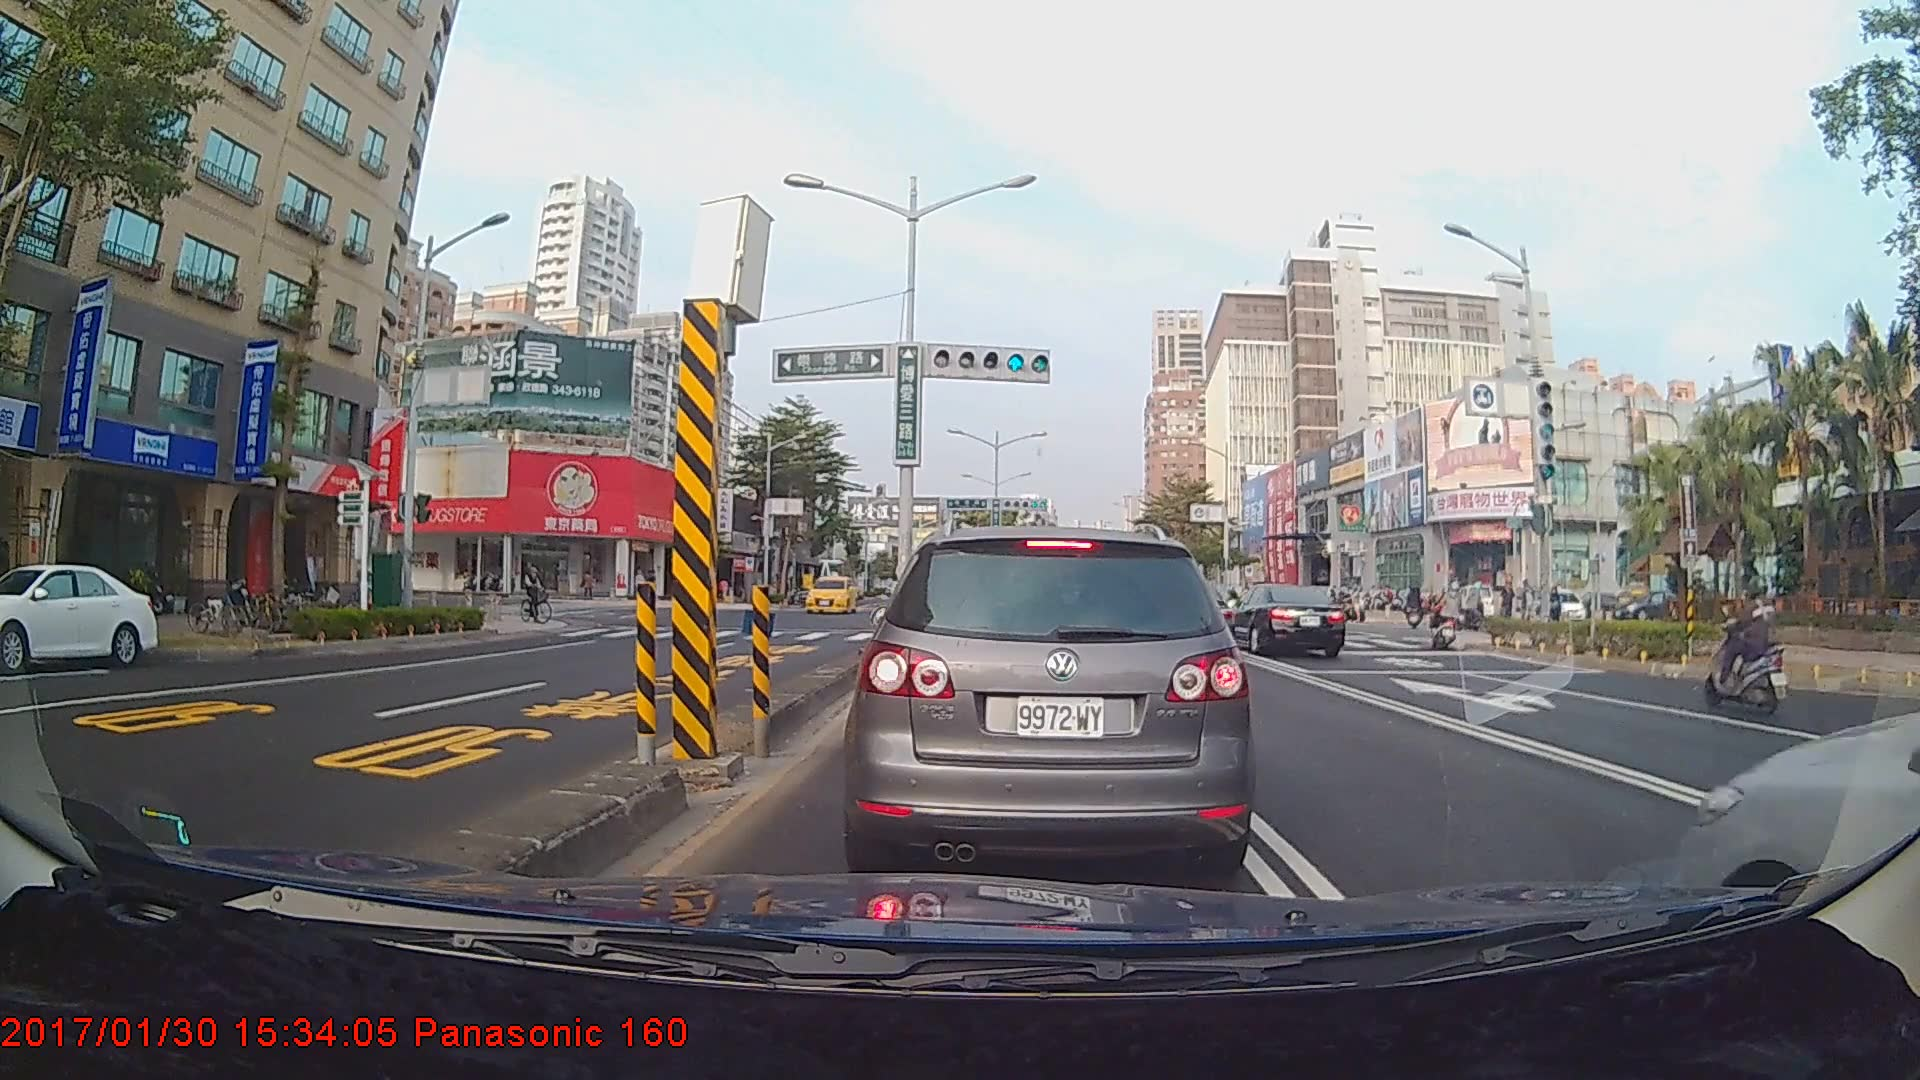rider: (1693, 576, 1793, 715), (518, 559, 561, 629), (1432, 579, 1467, 650)
vehicle: (857, 522, 1249, 878), (0, 561, 162, 671), (1222, 579, 1346, 656), (801, 575, 855, 614)
